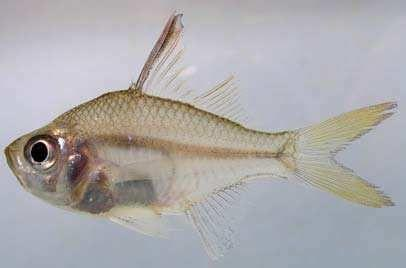Glass Perchlet: (4, 14, 399, 262)
